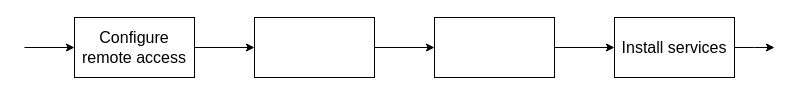
The diagram is 800 pixels wide and 95 high, and some of its shapes have lost their labels. The centre of each missing label's shape, as x and y in pixels:
"Configure Swarm" belongs at (x=494, y=47).
"Install Docker" belongs at (x=314, y=47).
